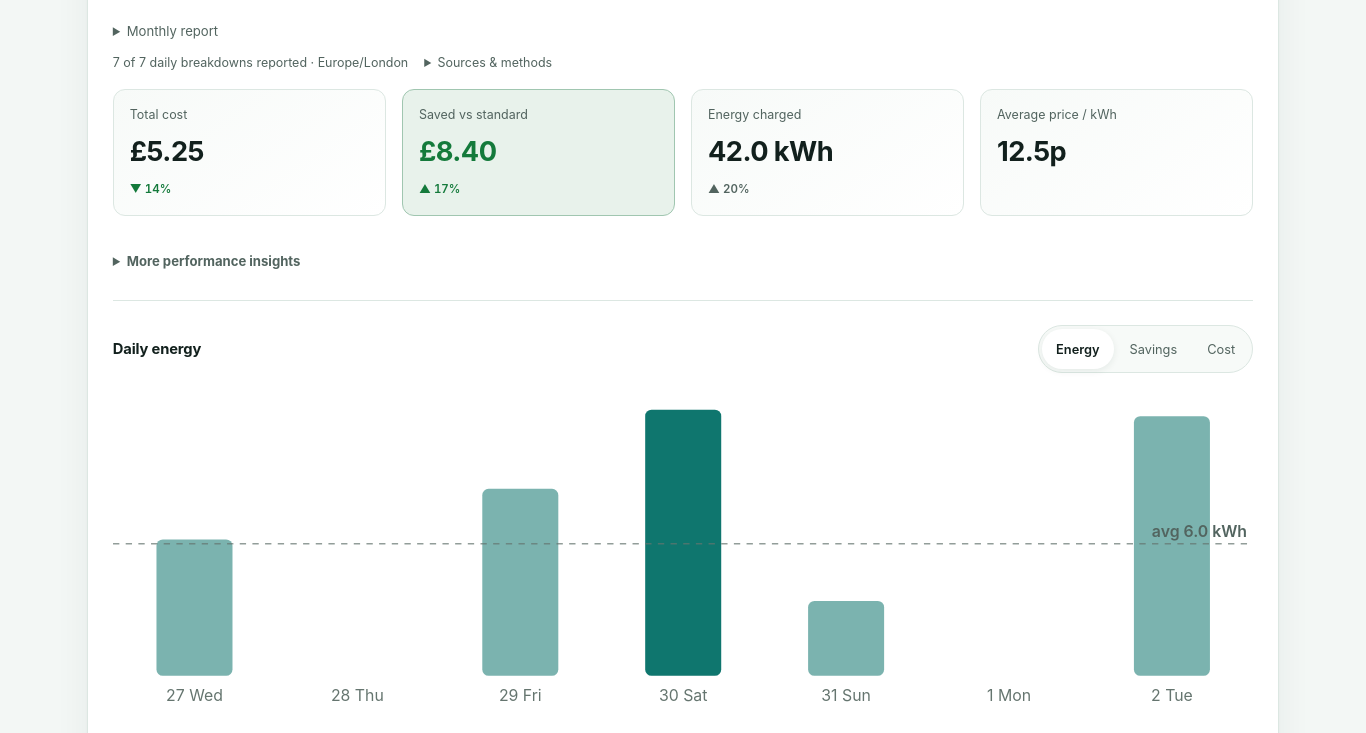
Test: Dashboard integration › switches the daily chart to the Cost metric
(page scrolled)
Check: the picture named "daily energy bar chart" is shown, box [113,397,1253,714]
Click the button "Cost". click: (1221, 349)
box: [1193,329,1249,369]
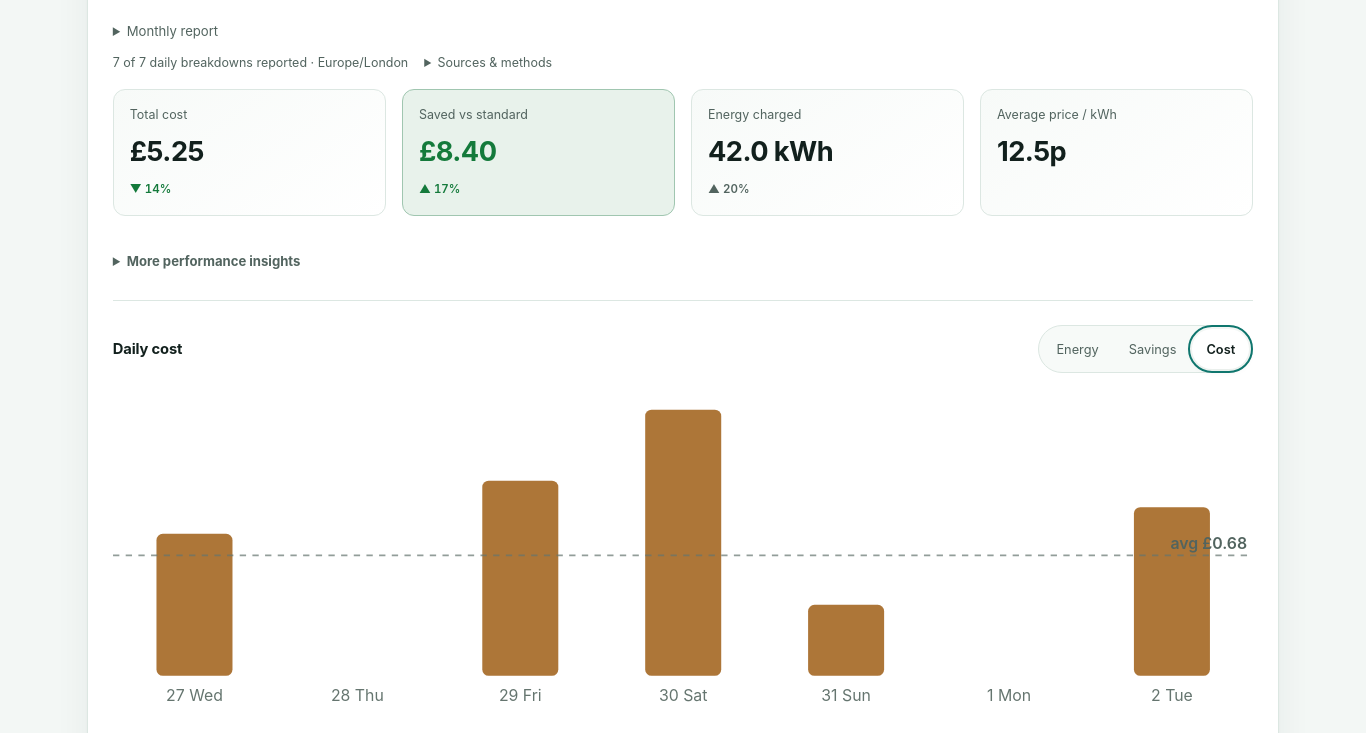
Check: the picture named "daily cost bar chart" is shown, box [113,397,1253,714]
Check: the heading "Daily cost" is shown, box [113,338,182,360]
